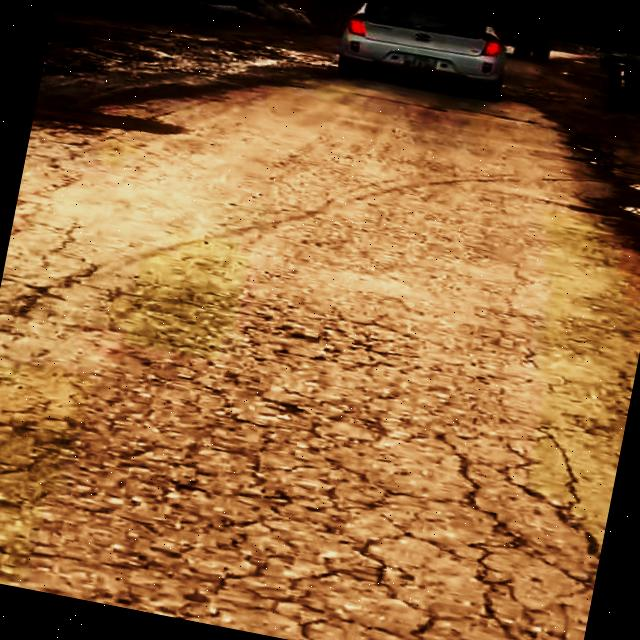pothole: (33, 95, 192, 150)
